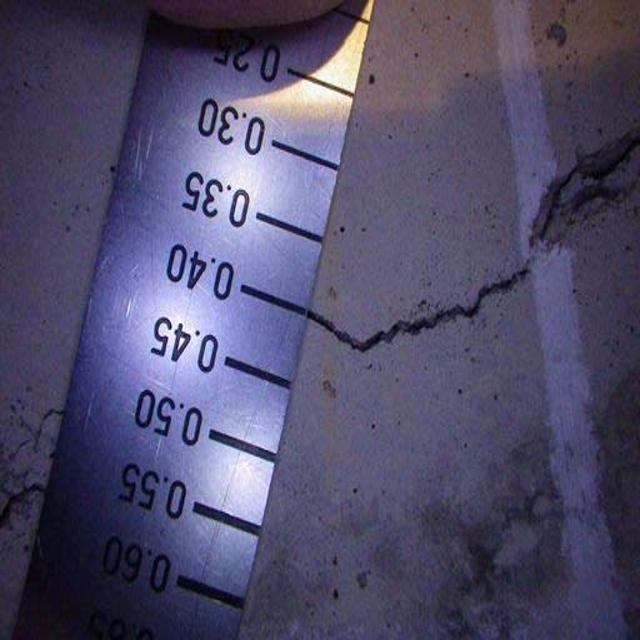crack: (301, 129, 640, 360)
